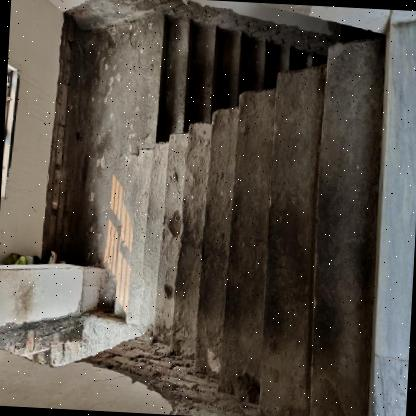stair: (62, 53, 416, 416)
